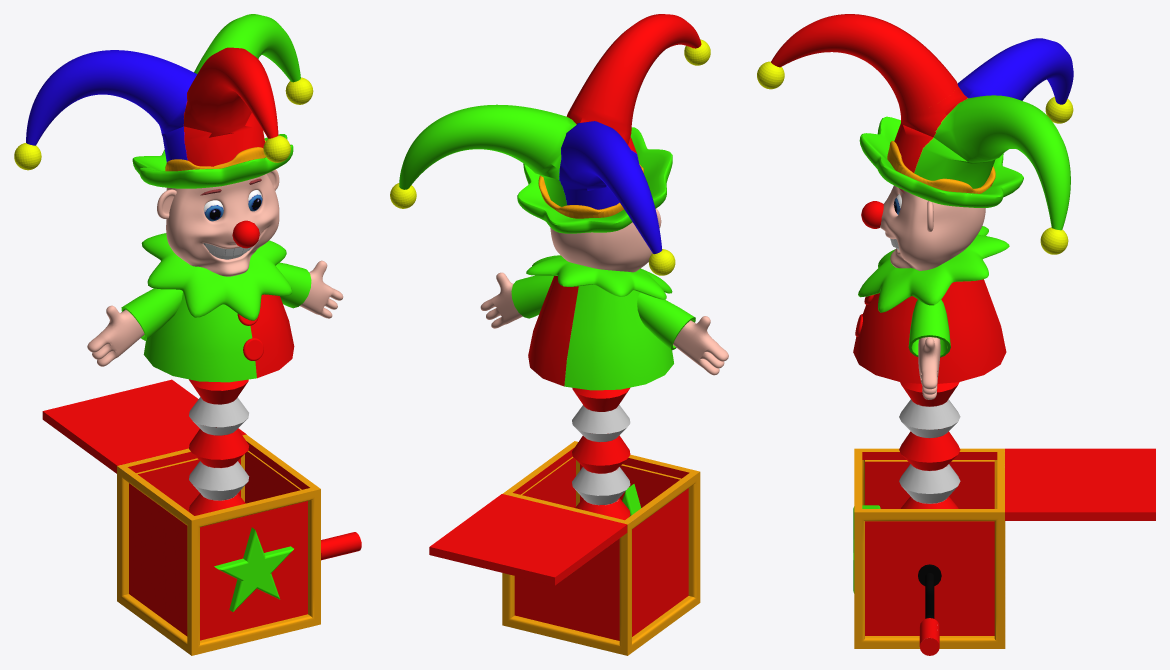
The model's file is clown-model.fbx.
3 renders of one model, left to right at view 1: azimuth 30°, elevation 25°; view 2: azimuth 150°, elevation 25°; view 3: azimuth 270°, elevation 25°, orthographic. The views are drawn at different scales.
Visible parts, largest first — view 1: spring_1; view 2: spring_1; view 3: spring_1.
Part boxes in pixels (box(x1,y1,x2,y2)): spring_1: box(14, 14, 361, 655); spring_1: box(390, 14, 728, 655); spring_1: box(757, 14, 1155, 655).
Size of the model in its own units: 1449 by 2784 by 1692.
Materials: 1 (1 with a texture image).
